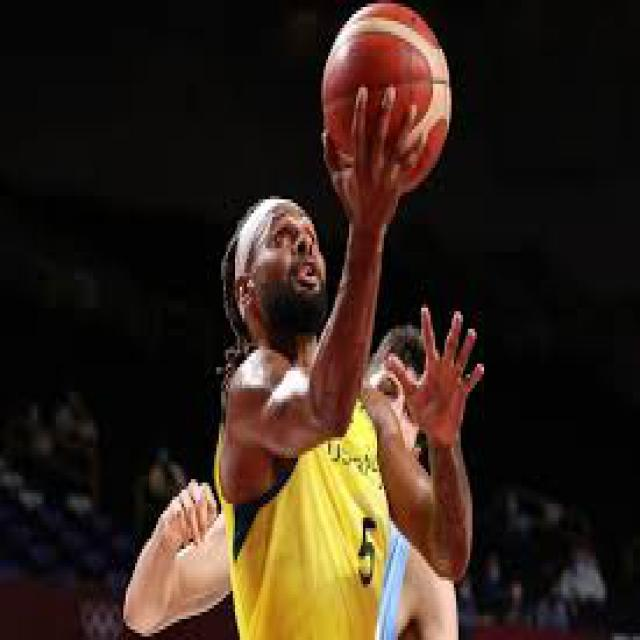basketball: (324, 4, 452, 192)
